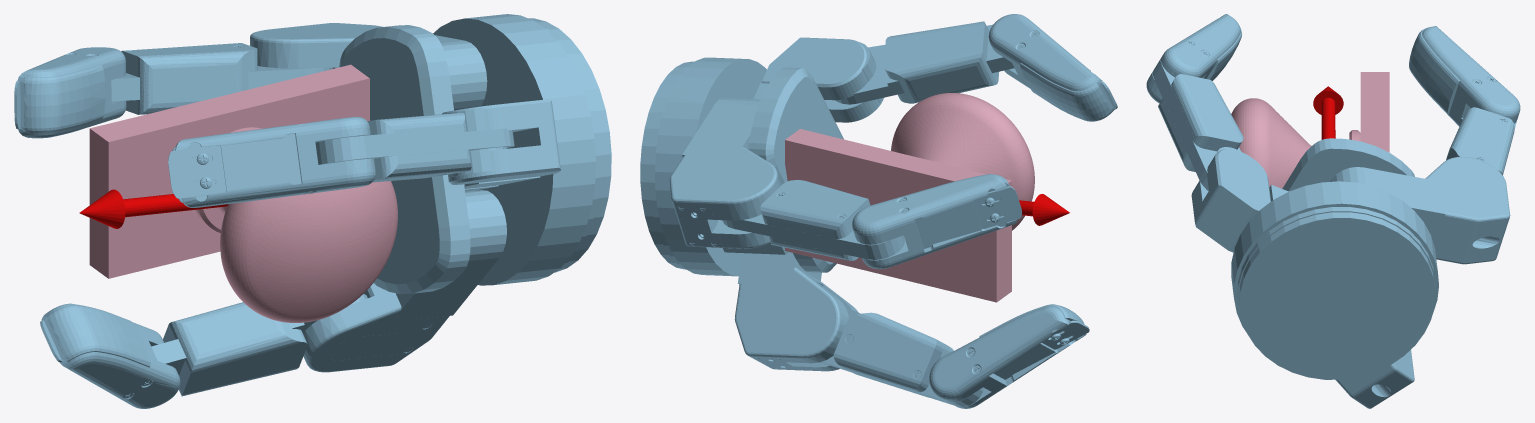
3 views of the same model, side by side, from view 1: azimuth 30°, elevation 25°; view 2: azimuth 150°, elevation 25°; view 3: azimuth 270°, elevation 25° (orthographic). The views are drawn at different scales.
Visible parts, largest first — view 1: world, door_knob.stl; view 2: world, door_knob.stl; view 3: world, door_knob.stl.
Boxes of the visible parts, box(x1,y1,x2,y2) form: world: box(14, 14, 611, 408); door_knob.stl: box(89, 64, 397, 322); world: box(640, 14, 1117, 408); door_knob.stl: box(785, 93, 1034, 302); world: box(1146, 14, 1520, 408); door_knob.stl: box(1231, 72, 1389, 188).
Bounding box in the file's own units: 0.195 × 0.1402 × 0.1617.
